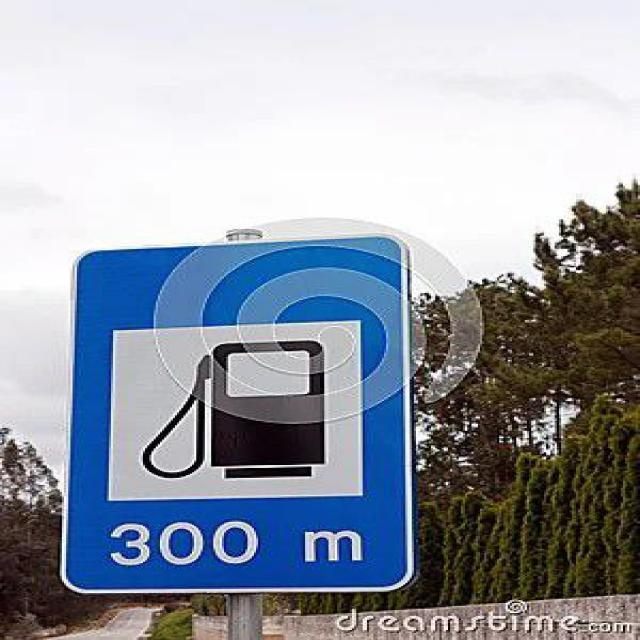petrol pump ahead: (67, 240, 413, 600)
